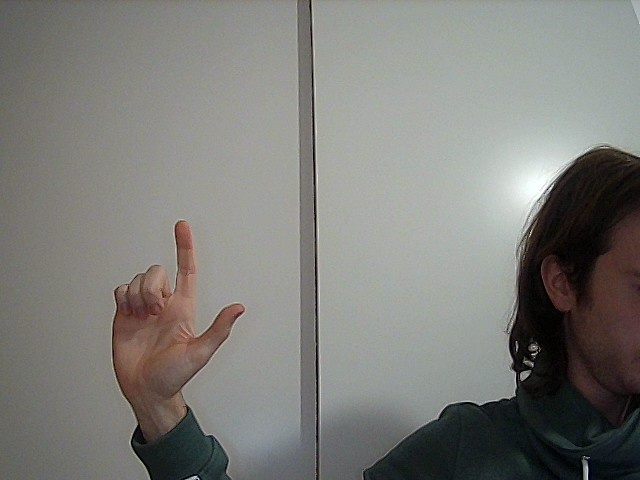l: (75, 212, 252, 398)
